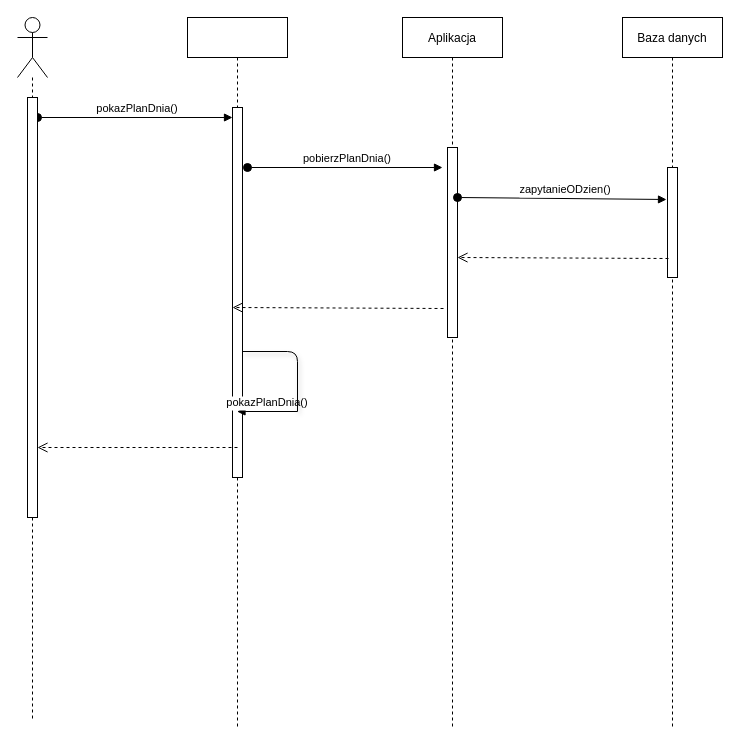
The diagram is 740 pixels wide and 745 high, and some of its shapes have lost their labels. Here are the shapes that lost their labels. From the top down, the centre of each, then its label:
At (32,47): "User".
At (237,372): "Powłoka graficzna".
